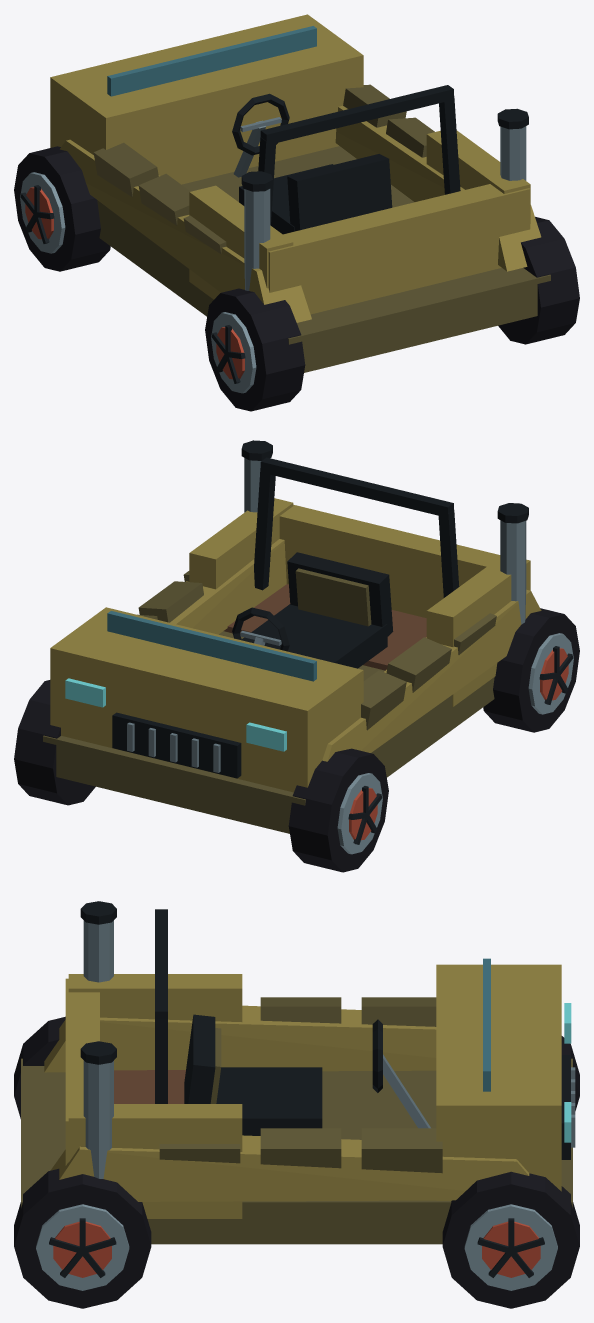
Rendered from kart.glb.
3 renders of one model, top to bottom at view 1: azimuth 30°, elevation 25°; view 2: azimuth 150°, elevation 25°; view 3: azimuth 270°, elevation 25°, orthographic. The views are drawn at different scales.
Parts seen in each view (by area): view 1: identity-truck-truck-utility-body, wheel-rear-left, identity-truck-driver-cockpit, wheel-front-left, identity-truck-motif-armor, identity-truck-motif-rollbar, wheel-rear-right, identity-truck-motif-exhaust; view 2: identity-truck-truck-utility-body, identity-truck-driver-cockpit, wheel-front-left, wheel-rear-left, identity-truck-motif-rollbar, identity-truck-motif-armor, wheel-front-right, identity-truck-motif-exhaust; view 3: identity-truck-truck-utility-body, wheel-front-right, wheel-rear-right, identity-truck-motif-armor, identity-truck-driver-cockpit, identity-truck-motif-exhaust, identity-truck-motif-rollbar, wheel-rear-left.
Boxes of the visible parts, <box> form: identity-truck-truck-utility-body: <box>50,14,550,372</box>; wheel-rear-left: <box>205,288,305,411</box>; identity-truck-driver-cockpit: <box>232,93,392,234</box>; wheel-front-left: <box>14,146,110,271</box>; identity-truck-motif-armor: <box>93,84,434,253</box>; identity-truck-motif-rollbar: <box>258,85,460,225</box>; wheel-rear-right: <box>498,216,579,344</box>; identity-truck-motif-exhaust: <box>241,108,528,290</box>; identity-truck-truck-utility-body: <box>43,498,541,833</box>; identity-truck-driver-cockpit: <box>232,552,393,668</box>; wheel-front-left: <box>288,748,388,872</box>; wheel-rear-left: <box>483,608,579,732</box>; identity-truck-motif-rollbar: <box>254,457,459,597</box>; identity-truck-motif-armor: <box>137,571,496,730</box>; wheel-front-right: <box>14,680,95,805</box>; identity-truck-motif-exhaust: <box>241,440,528,624</box>; identity-truck-truck-utility-body: <box>21,958,575,1244</box>; wheel-front-right: <box>442,1171,579,1308</box>; wheel-rear-right: <box>14,1168,151,1308</box>; identity-truck-motif-armor: <box>159,997,442,1173</box>; identity-truck-driver-cockpit: <box>184,1014,430,1135</box>; identity-truck-motif-exhaust: <box>80,901,116,1178</box>; identity-truck-motif-rollbar: <box>155,909,167,1103</box>; wheel-rear-left: <box>14,1016,65,1118</box>.
Size of the model in its own units: 2.13 by 1.43 by 2.8.
